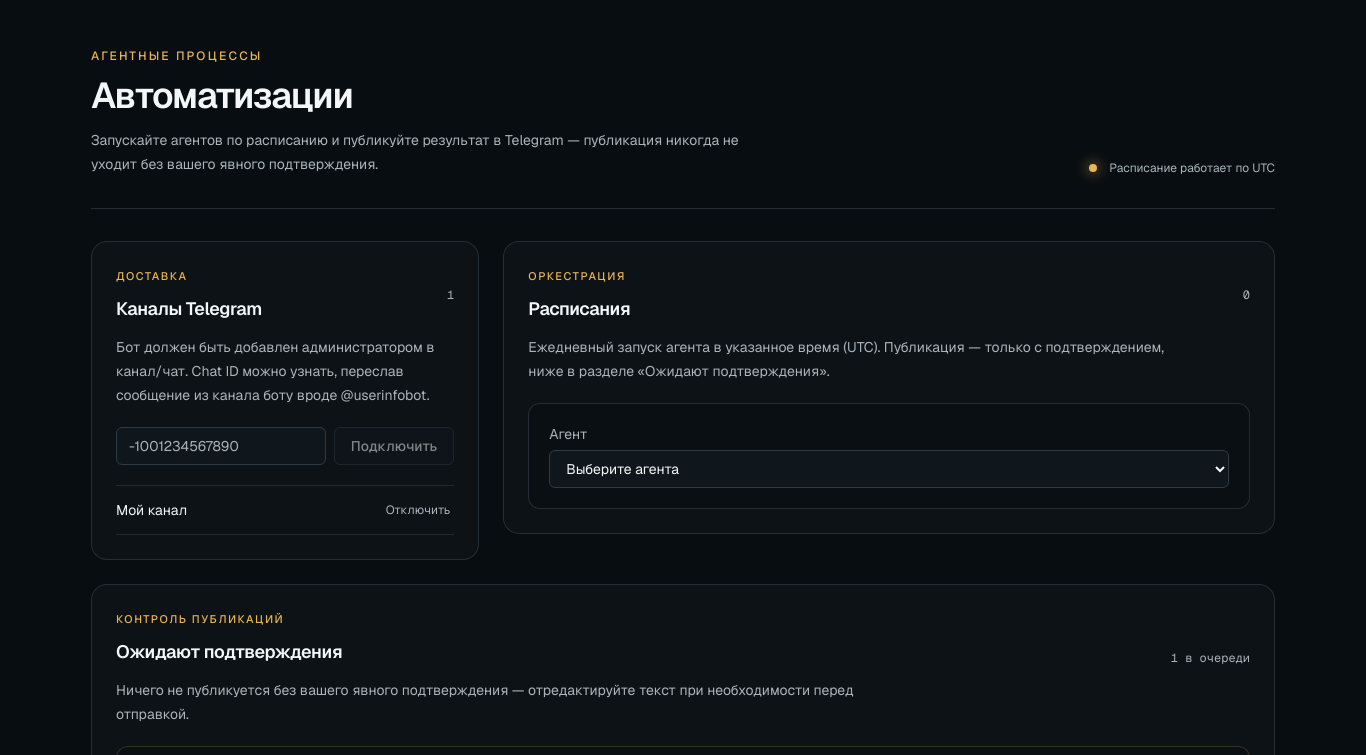
AutomationsPage › connects a Telegram channel
Expected: the text "Мой канал" is shown, [116,500,187,520]
Type "-999" into the field with placeholder "-1001234567890" at (221, 446), box [116,427,326,465]
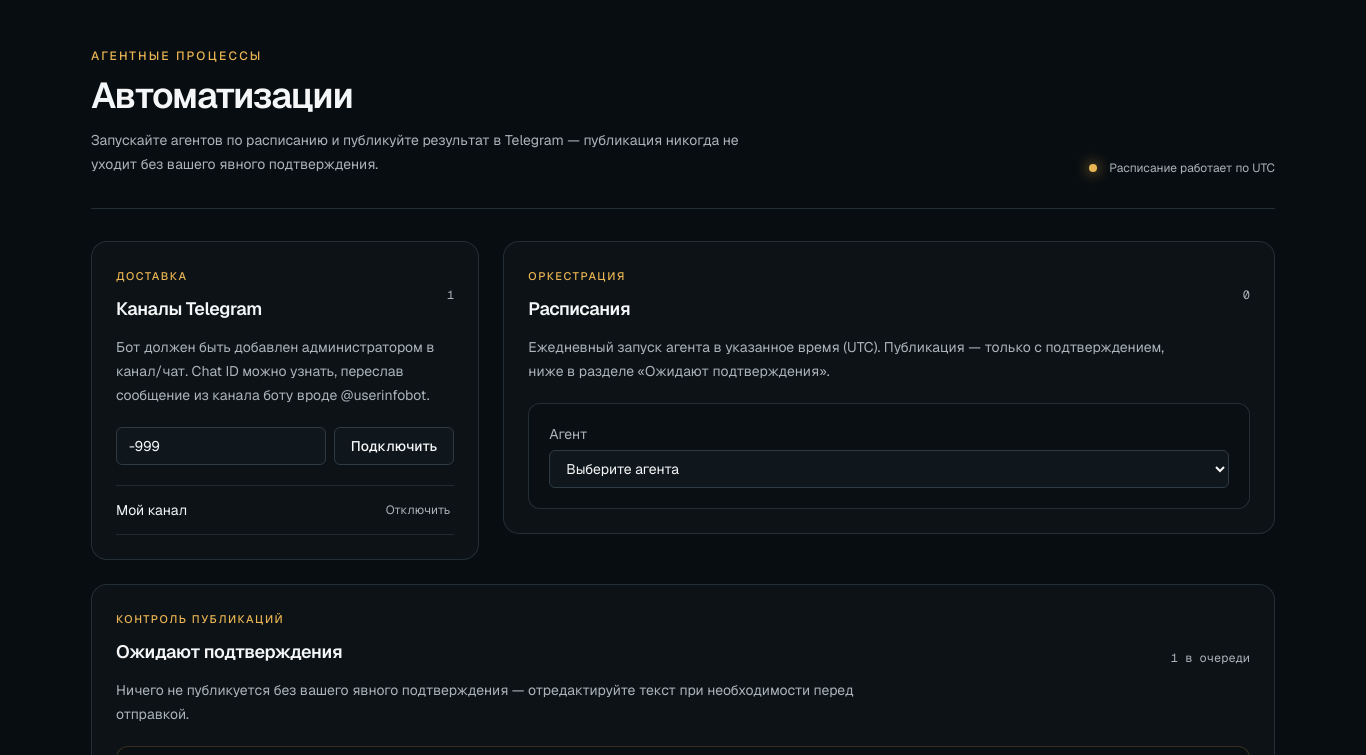
Click the button "Подключить" at (394, 446), box [334,427,454,465]
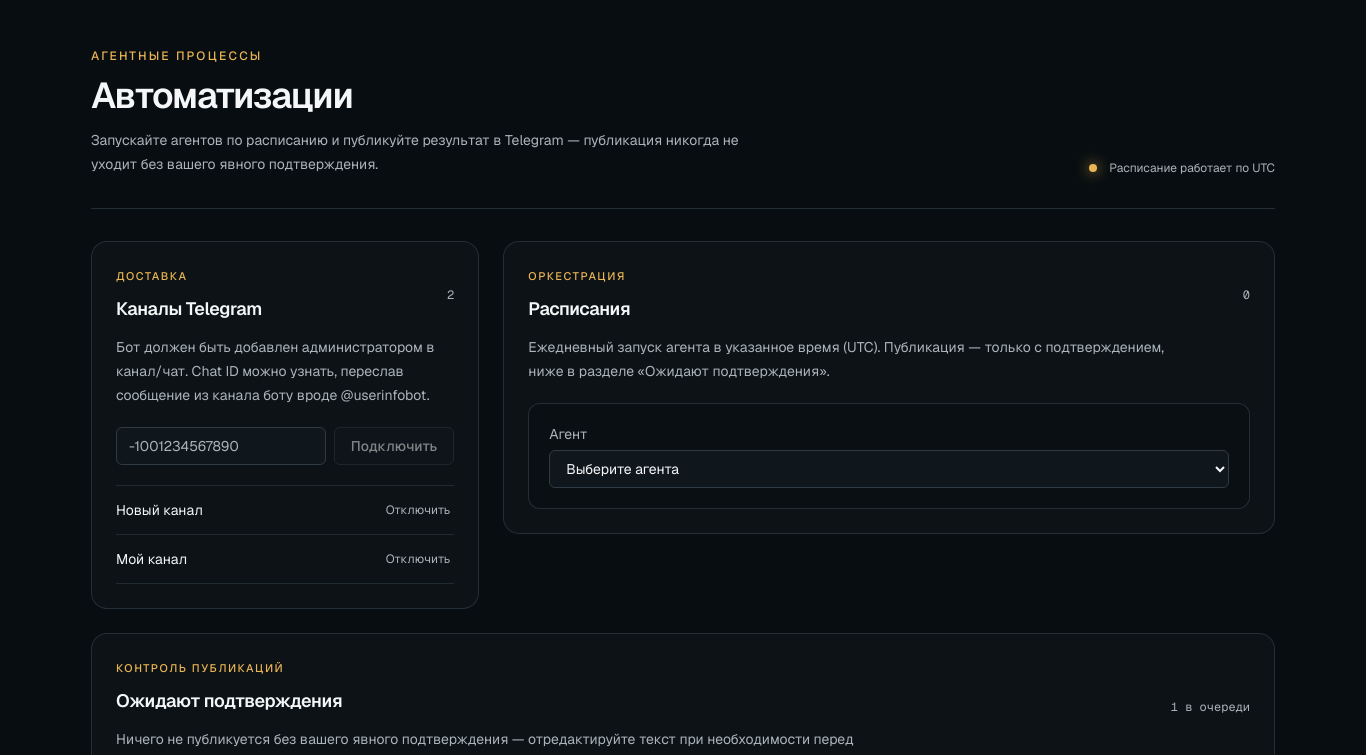
Result: the text "Новый канал" is shown at [116,500,203,520]
